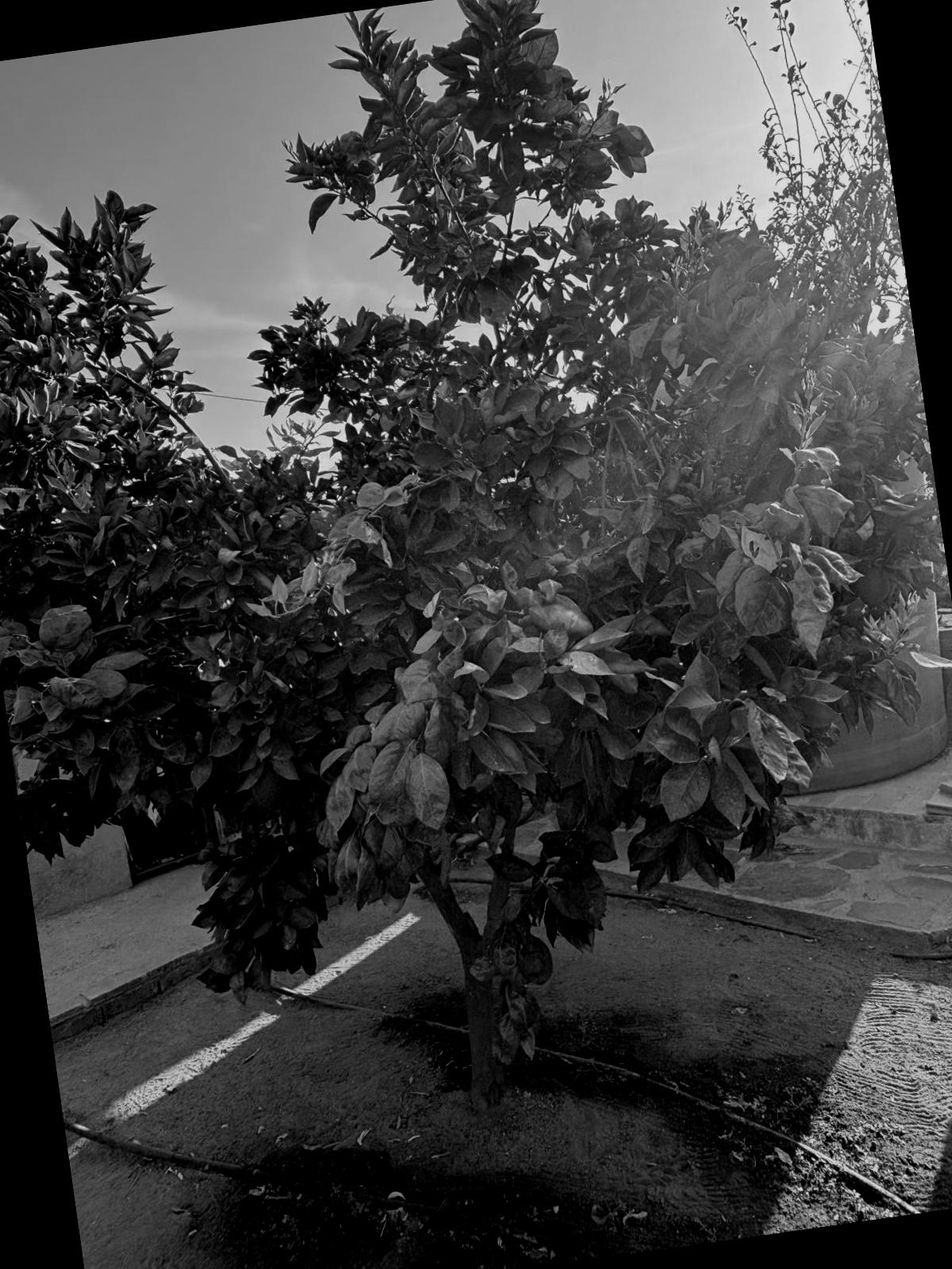naranjo: (0, 148, 952, 1183)
